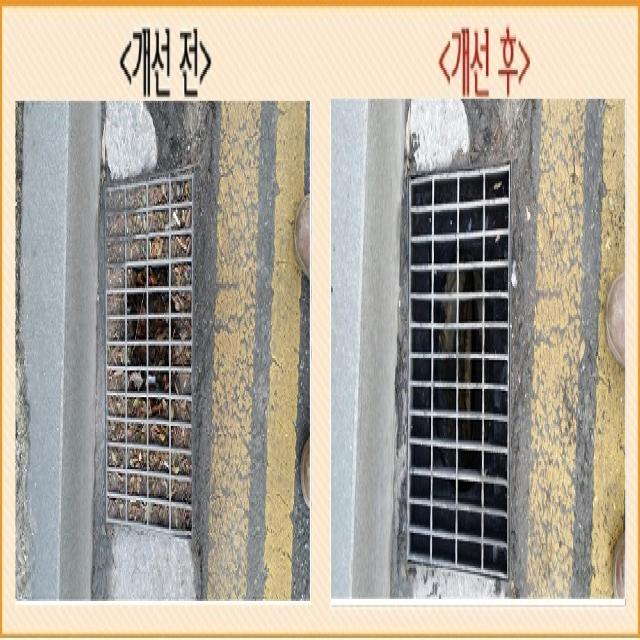drain_area: (409, 167, 511, 578), (126, 291, 160, 345)
drain_full: (408, 167, 510, 578), (106, 173, 193, 537)
